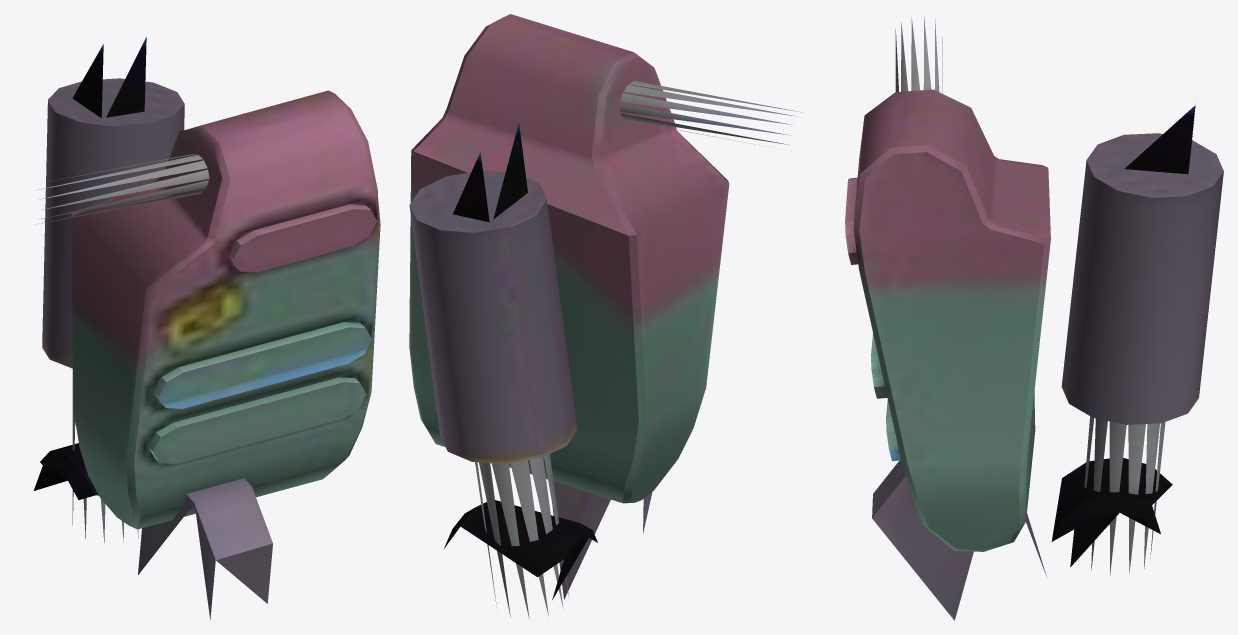
The model's file is j3ff_thigh_l.glb.
3 renders of one model, left to right at view 1: azimuth 30°, elevation 25°; view 2: azimuth 150°, elevation 25°; view 3: azimuth 270°, elevation 25°, orthographic.
Parts seen in each view (by area): view 1: j3ff; view 2: j3ff; view 3: j3ff.
Boxes of the visible parts, x1=… form: j3ff: x1=33, y1=37, x2=380, y2=619; j3ff: x1=409, y1=14, x2=801, y2=619; j3ff: x1=845, y1=16, x2=1223, y2=620.
Bounding box in the file's own units: 13.14 × 18.84 × 12.47.
Materials: 1 (1 with a texture image).
